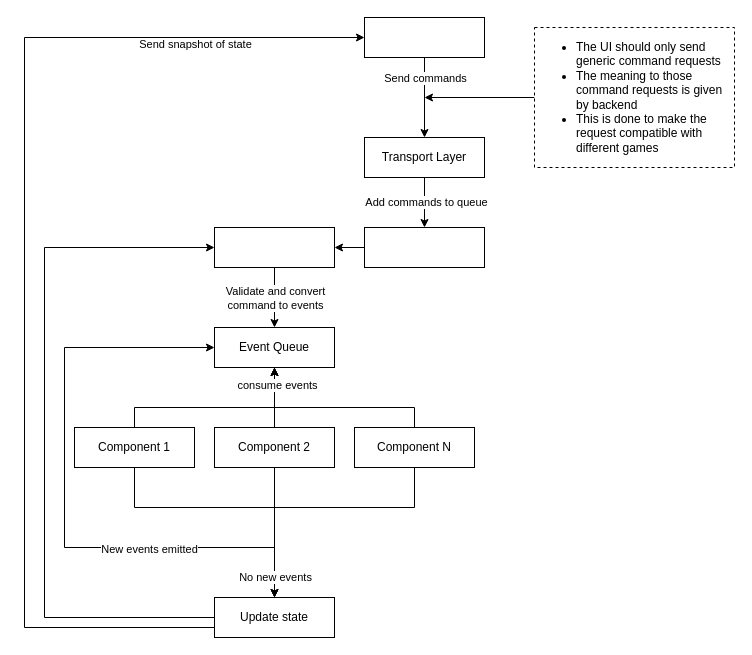
Image size: 752x655. Some labels were removed from this diagram. Each missing label, with the centre of its shape:
"Command Queue" goes at (x=424, y=247).
"Game Loop" goes at (x=274, y=247).
"UI" goes at (x=424, y=37).
